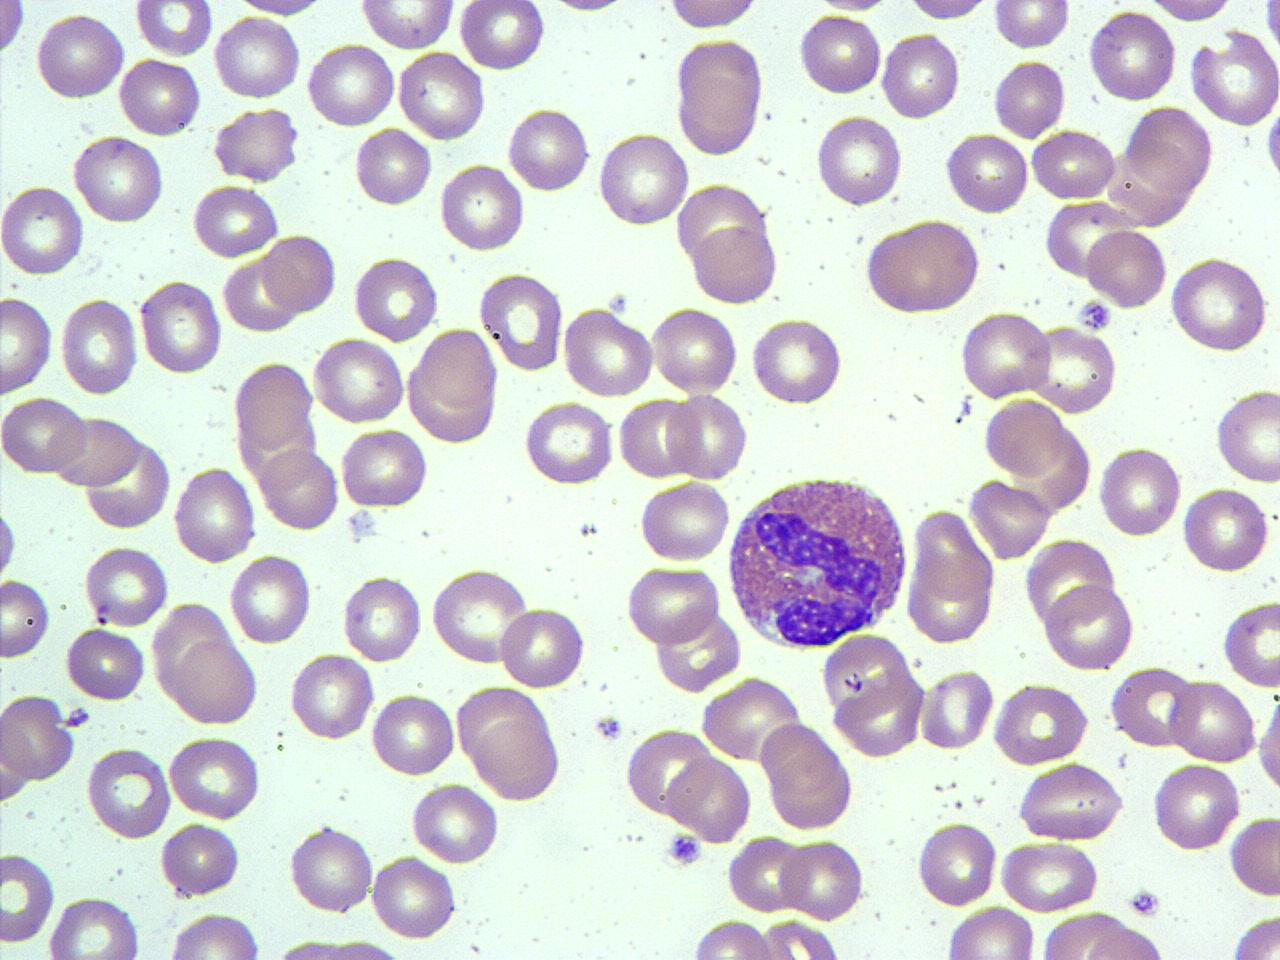Platelets: (1226, 910, 1278, 960), (664, 830, 702, 868), (1125, 885, 1165, 919), (1076, 297, 1112, 333), (593, 714, 625, 742)
RBC: (862, 216, 984, 316), (672, 36, 766, 157), (405, 329, 500, 443), (430, 564, 530, 669), (1169, 254, 1273, 354), (676, 179, 778, 277), (596, 130, 692, 228), (476, 268, 563, 374), (70, 132, 166, 228), (1186, 29, 1280, 128), (1014, 761, 1126, 844), (1022, 536, 1118, 632), (171, 462, 258, 567), (958, 308, 1053, 403), (562, 304, 656, 400), (1042, 580, 1136, 675), (750, 315, 846, 407), (820, 629, 913, 724), (310, 334, 407, 425), (994, 315, 1083, 412), (814, 112, 904, 210), (700, 674, 799, 762), (226, 550, 314, 648), (1096, 442, 1184, 541), (904, 550, 995, 645), (992, 681, 1092, 767), (1180, 484, 1274, 576), (304, 39, 398, 131), (84, 744, 173, 840), (33, 10, 125, 103), (1087, 8, 1177, 103), (624, 563, 724, 647), (1149, 760, 1241, 852), (437, 161, 528, 254), (285, 822, 375, 916), (637, 476, 733, 564), (164, 736, 264, 820), (765, 742, 856, 834), (397, 49, 487, 142), (211, 12, 303, 102), (649, 306, 739, 398), (337, 425, 431, 512), (521, 399, 617, 486), (369, 852, 460, 943), (472, 712, 563, 802), (1031, 322, 1119, 415), (60, 294, 139, 398), (498, 602, 588, 693), (1168, 677, 1260, 765), (1108, 663, 1200, 750), (138, 278, 223, 374), (350, 253, 440, 342), (368, 689, 457, 779), (505, 103, 592, 196), (625, 726, 711, 820), (996, 837, 1101, 914), (0, 183, 85, 277), (912, 506, 994, 604), (665, 754, 752, 845), (409, 779, 500, 866), (340, 572, 424, 665), (666, 389, 750, 483), (1126, 103, 1214, 191), (172, 637, 260, 726), (796, 10, 884, 99), (82, 542, 171, 628), (288, 651, 374, 742), (691, 222, 780, 308), (913, 819, 997, 910), (880, 30, 962, 123), (116, 54, 204, 140), (209, 104, 302, 184), (780, 836, 866, 923), (980, 396, 1068, 480), (968, 476, 1052, 562), (1085, 225, 1169, 312), (943, 132, 1031, 215), (0, 394, 89, 476), (189, 181, 280, 259), (617, 394, 698, 481), (258, 446, 339, 532), (1043, 198, 1125, 282), (724, 832, 808, 914), (351, 124, 432, 209), (0, 692, 75, 784), (990, 55, 1068, 141), (1030, 126, 1118, 203), (457, 0, 547, 74), (158, 820, 241, 899), (63, 624, 146, 704), (1213, 385, 1279, 485), (920, 666, 994, 752), (45, 894, 142, 960), (260, 231, 336, 315), (1035, 911, 1165, 959), (0, 293, 55, 397), (1220, 595, 1280, 690), (0, 849, 58, 945), (942, 903, 1038, 959), (166, 908, 264, 959), (358, 0, 454, 51), (132, 0, 215, 58), (1227, 812, 1279, 898), (0, 576, 53, 659), (990, 0, 1072, 53), (688, 918, 782, 958), (759, 917, 843, 960), (1, 702, 36, 802), (662, 0, 766, 33), (1254, 682, 1280, 802), (1142, 0, 1240, 27), (1228, 910, 1280, 960), (902, 0, 996, 24), (0, 498, 19, 588), (0, 0, 26, 61)
WBC: (720, 467, 916, 648), (1186, 24, 1280, 127)
